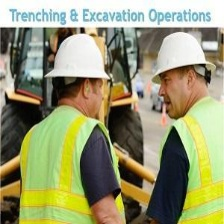helmet: (43, 36, 119, 90), (149, 36, 220, 82)
person: (18, 33, 134, 212), (141, 36, 224, 224)
vest: (15, 103, 131, 220), (152, 99, 224, 223)
